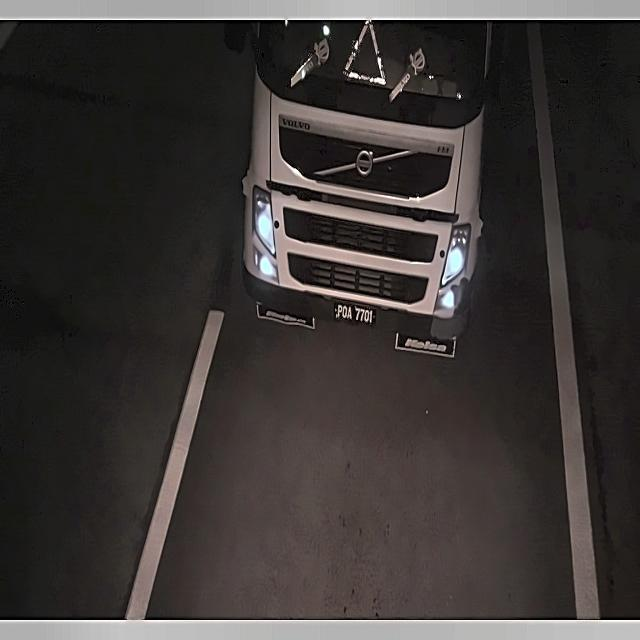car: (330, 298, 381, 332)
